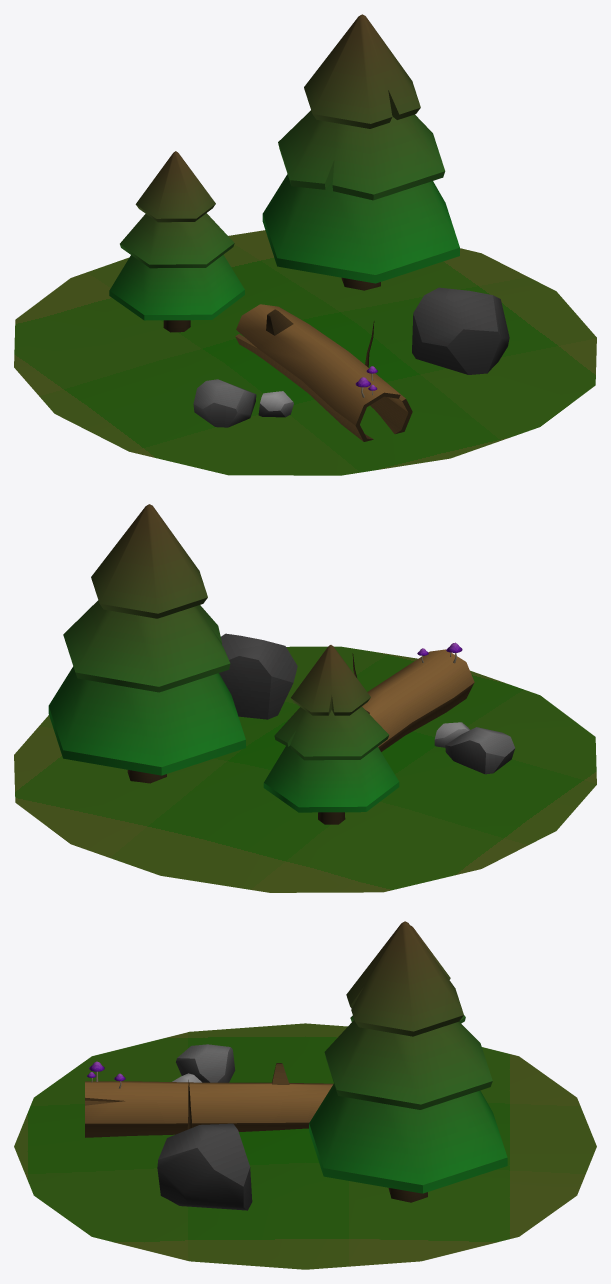
3 renders of one model, top to bottom at view 1: azimuth 30°, elevation 25°; view 2: azimuth 150°, elevation 25°; view 3: azimuth 270°, elevation 25°, orthographic.
Visible parts, largest first — view 1: Ground, Fir_Tree_02, Fir_Tree_01, Log, Rock_03, Rock_01, Rock_02; view 2: Ground, Fir_Tree_02, Fir_Tree_01, Log, Rock_03, Rock_01, Rock_02; view 3: Ground, Fir_Tree_02, Log, Rock_03, Rock_01.
Part boxes in pixels (bbox=[...]): Ground: bbox=[14, 230, 596, 475]; Fir_Tree_02: bbox=[262, 14, 459, 290]; Fir_Tree_01: bbox=[109, 151, 244, 332]; Log: bbox=[235, 304, 412, 441]; Rock_03: bbox=[412, 287, 509, 374]; Rock_01: bbox=[193, 379, 256, 427]; Rock_02: bbox=[258, 391, 293, 417]; Ground: bbox=[14, 646, 596, 892]; Fir_Tree_02: bbox=[48, 504, 245, 783]; Fir_Tree_01: bbox=[263, 645, 399, 824]; Log: bbox=[362, 649, 474, 751]; Rock_03: bbox=[219, 633, 297, 719]; Rock_01: bbox=[445, 727, 515, 774]; Rock_02: bbox=[434, 722, 469, 747]; Ground: bbox=[14, 1023, 596, 1269]; Fir_Tree_02: bbox=[309, 921, 507, 1202]; Log: bbox=[85, 1063, 333, 1137]; Rock_03: bbox=[157, 1123, 252, 1210]; Rock_01: bbox=[176, 1044, 235, 1082].
Bounding box in the file's own units: 2015 × 1076 × 2015.
